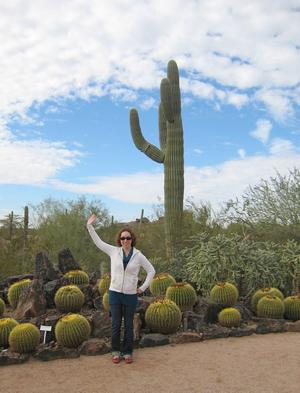person: (87, 212, 155, 365)
